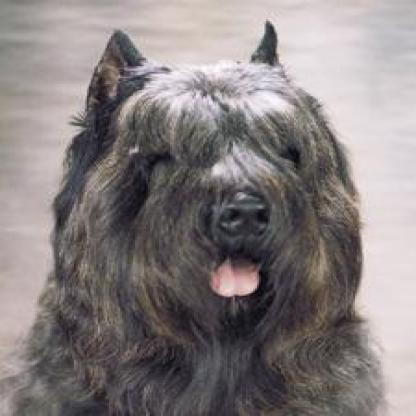Bouvier_des_Flandres: (0, 16, 388, 413)
